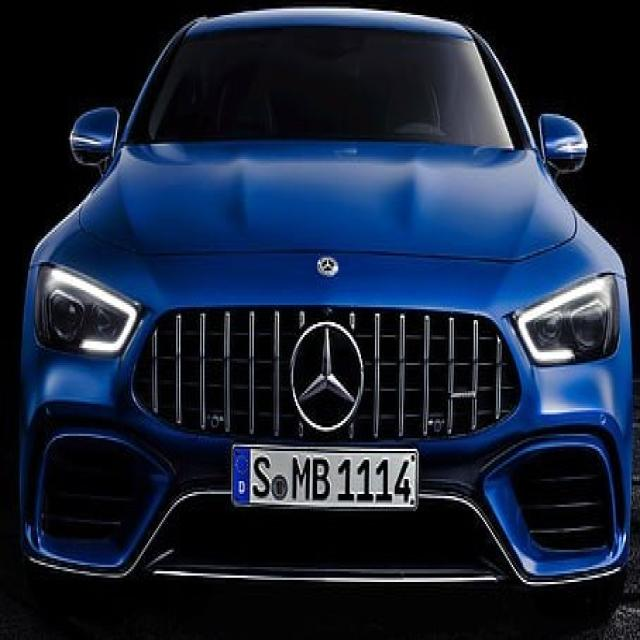blue: (18, 0, 631, 626)
